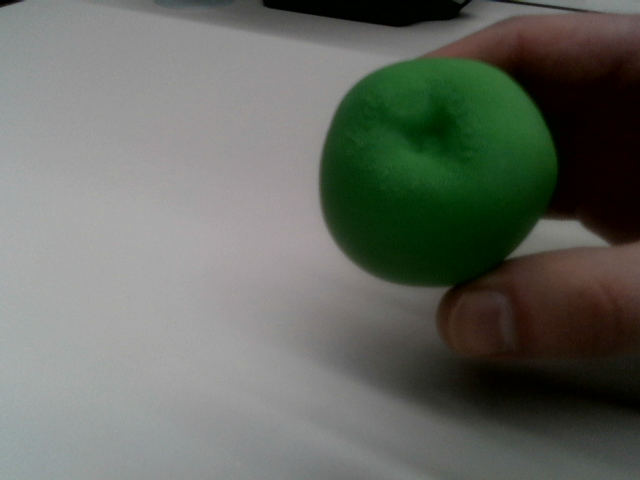green apple: (316, 54, 561, 289)
